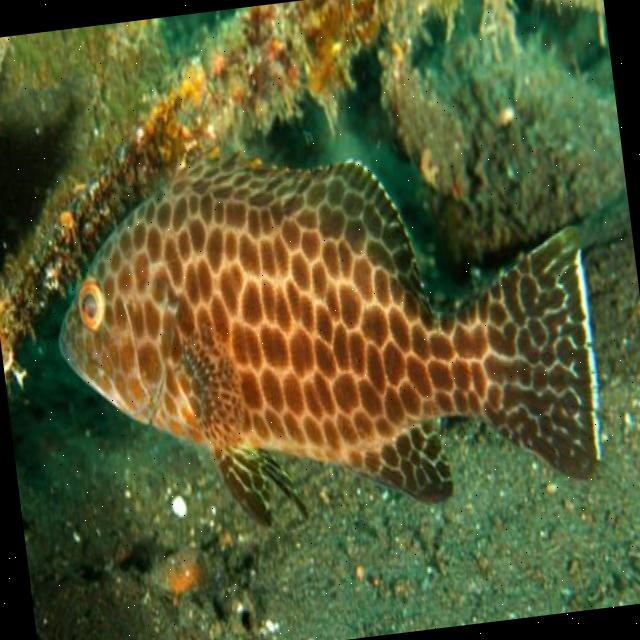ikan: (35, 99, 613, 552)
